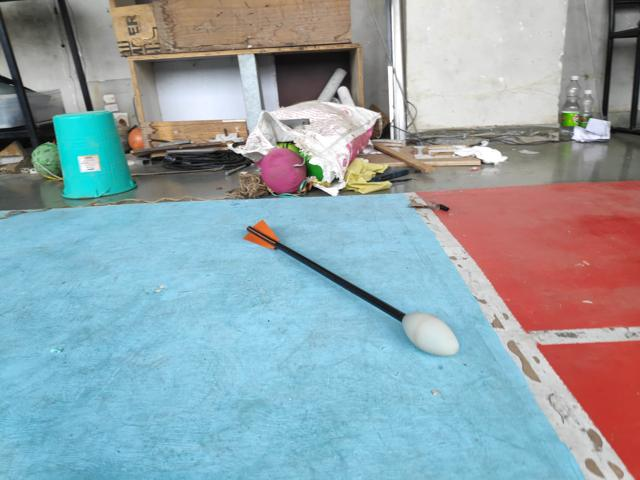Head: (400, 310, 462, 358)
Tail: (238, 216, 281, 252)
